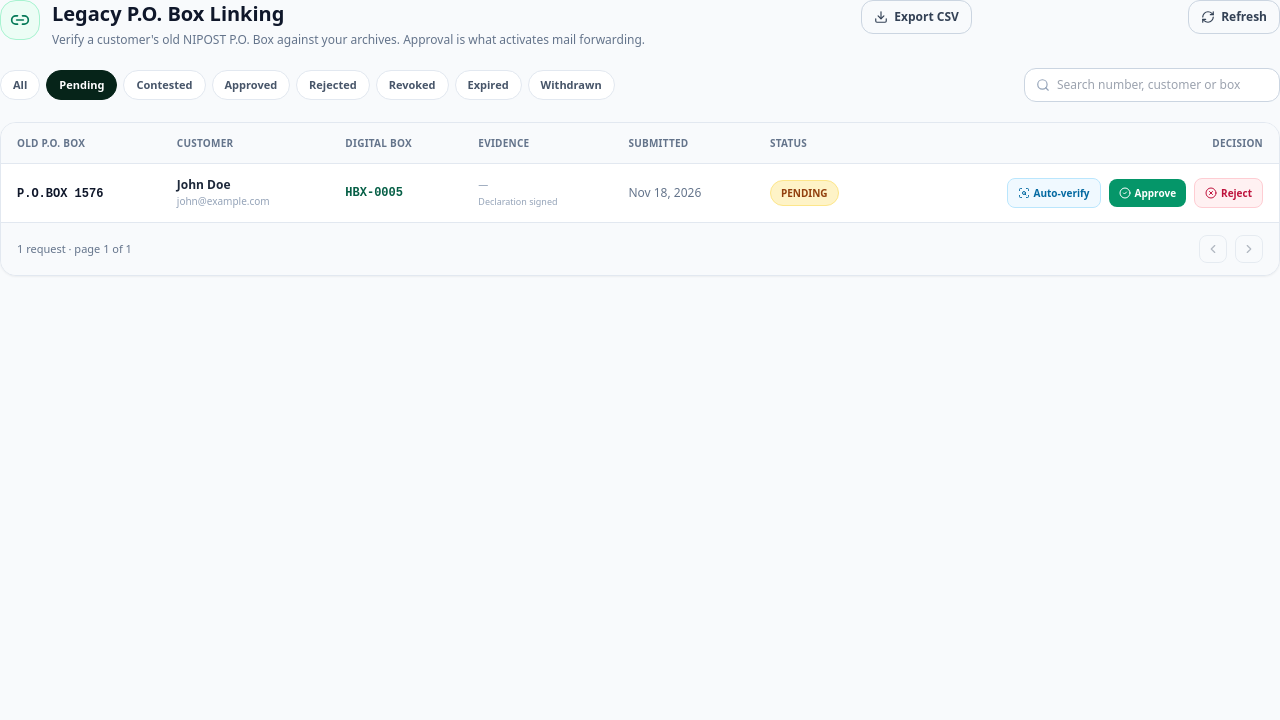
Test: LegacyBoxLinkRequests › sends the rejection reason so the API can record it
This screenshot has width=1280, height=720.
Click the button "Reject": [1228, 193] box [1194, 178, 1263, 208]
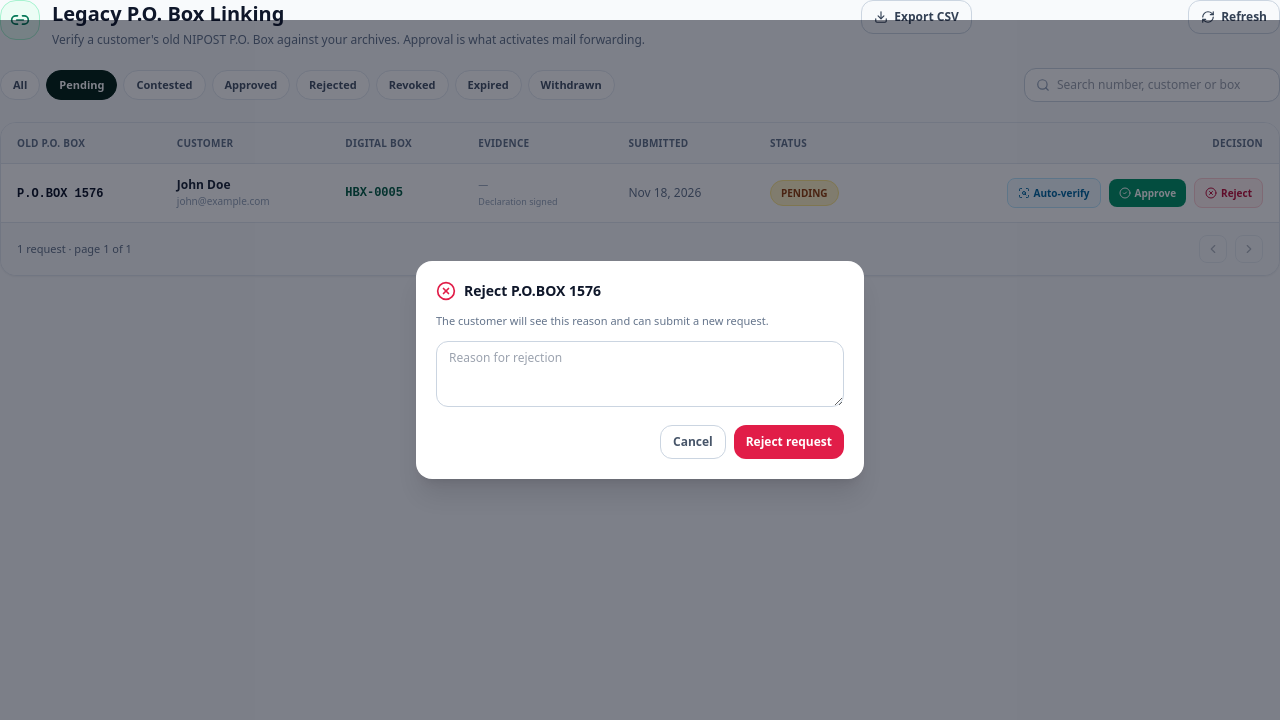
In the text box with placeholder "Reason for rejection": [640, 374] box [436, 341, 844, 407], type "Reupload original documents"
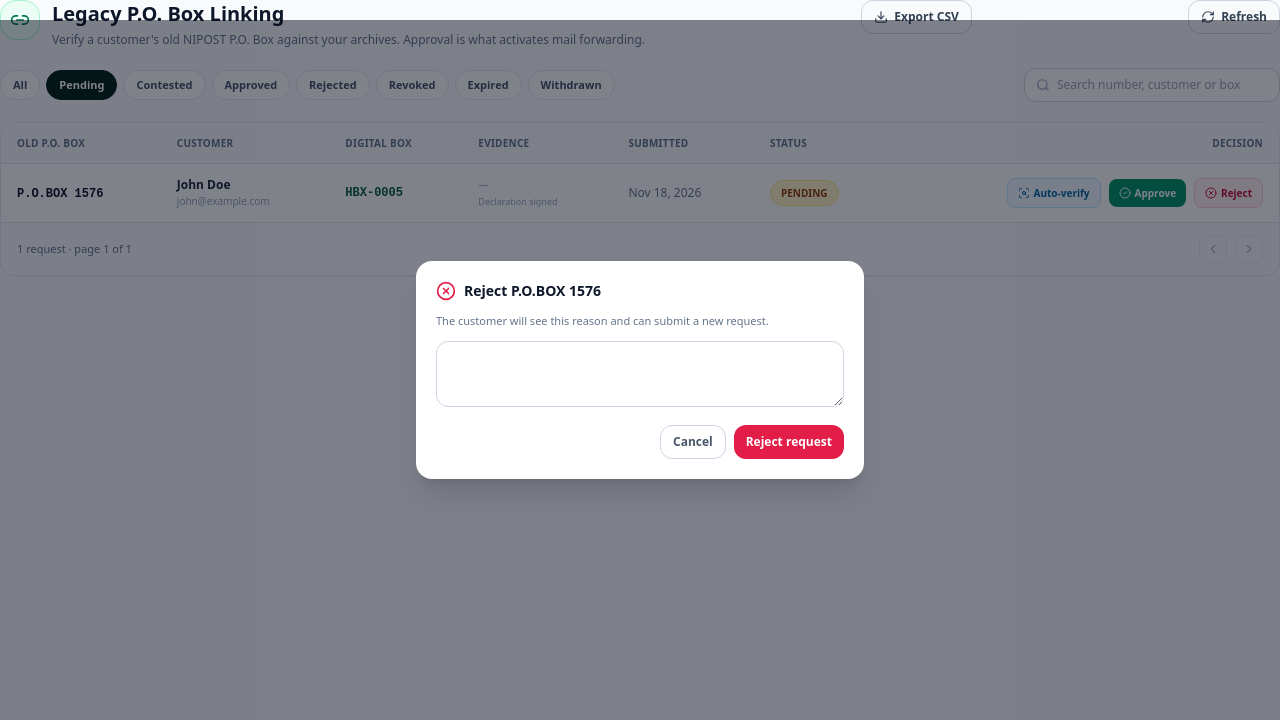
Click the button "Reject request": [789, 442] box [734, 425, 844, 459]
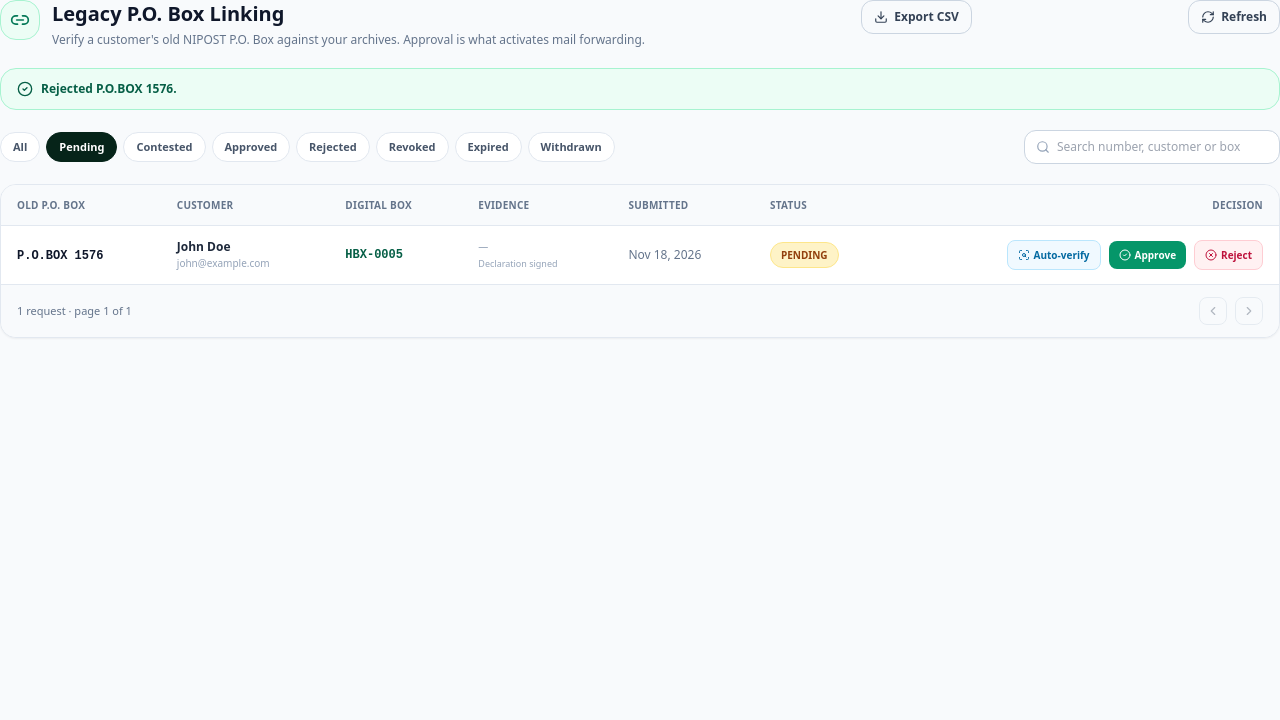
Check: the text "Rejected P.O.BOX 1576." is shown, box [0, 68, 1279, 110]
